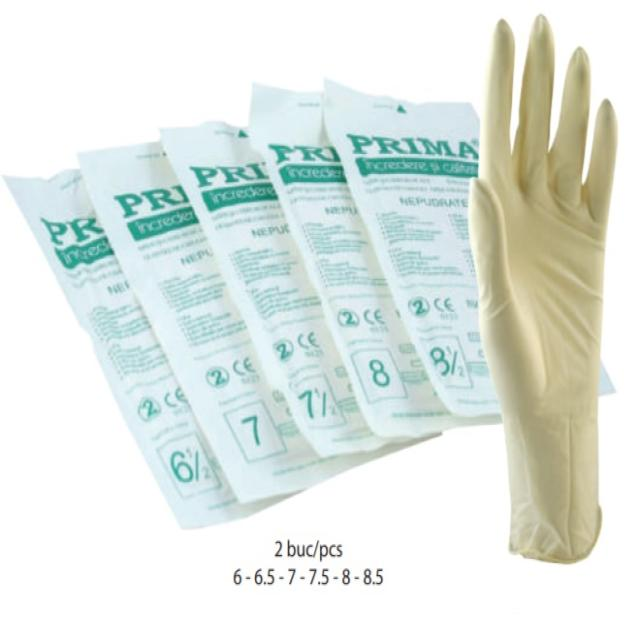Gloves: (458, 13, 630, 562)
